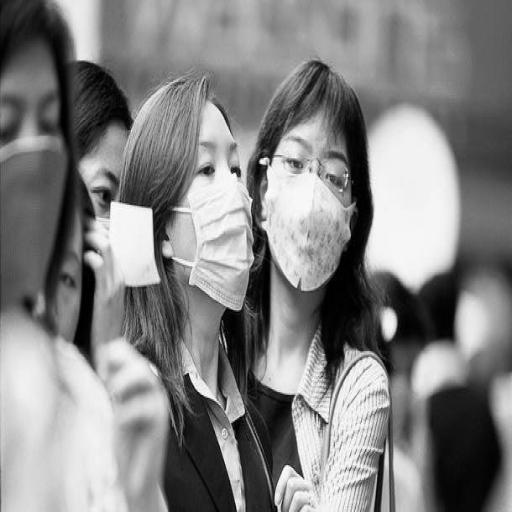mask: (117, 70, 257, 326), (245, 46, 369, 308), (2, 2, 78, 312)
